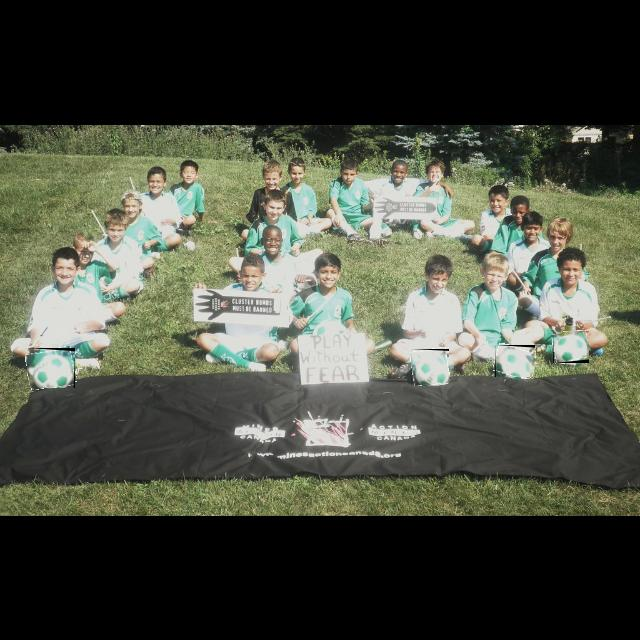Football: (27, 348, 75, 388), (411, 349, 449, 385), (495, 345, 535, 377), (553, 331, 589, 363)
